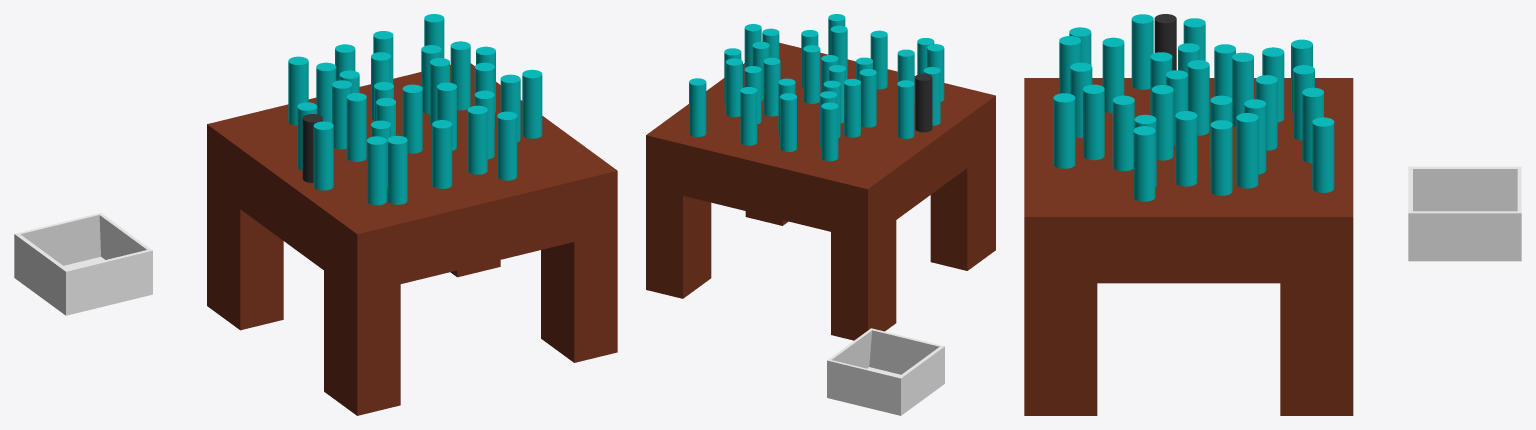
The model's file is can_world_30_cans.dae.
3 views of the same model, side by side, from view 1: azimuth 30°, elevation 25°; view 2: azimuth 150°, elevation 25°; view 3: azimuth 270°, elevation 25° (orthographic). The views are drawn at different scales.
Parts seen in each view (by area): view 1: base (×29), SketchUp (×2); view 2: base (×30), SketchUp (×2); view 3: base (×32), SketchUp (×2).
Boxes of the visible parts, <box> form: base (×29): <box>207,14,617,415</box>; SketchUp (×2): <box>14,213,152,315</box>; base (×30): <box>646,24,995,340</box>; SketchUp (×2): <box>827,328,944,415</box>; base (×32): <box>1024,14,1353,415</box>; SketchUp (×2): <box>1408,166,1521,261</box>.
Size of the model in its own units: 1.3 by 1.36 by 0.811.
